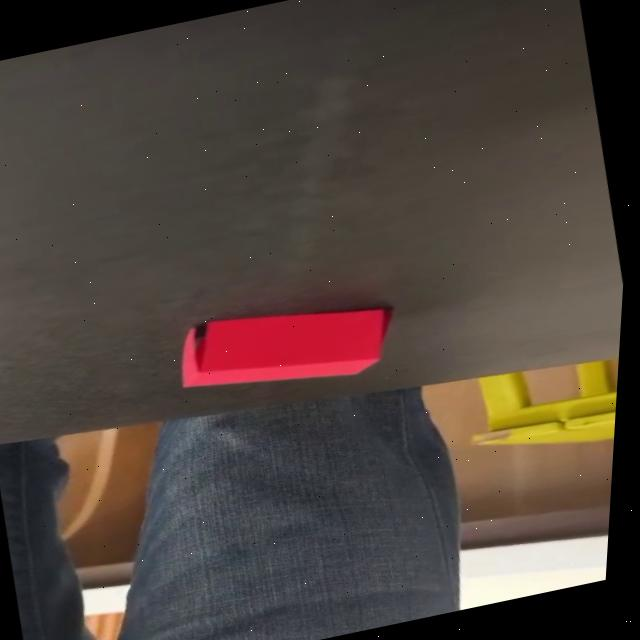red block: (166, 283, 404, 412)
